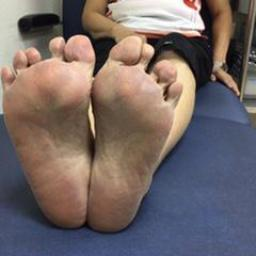Plantar View -Both Feet-: (1, 25, 189, 242)
